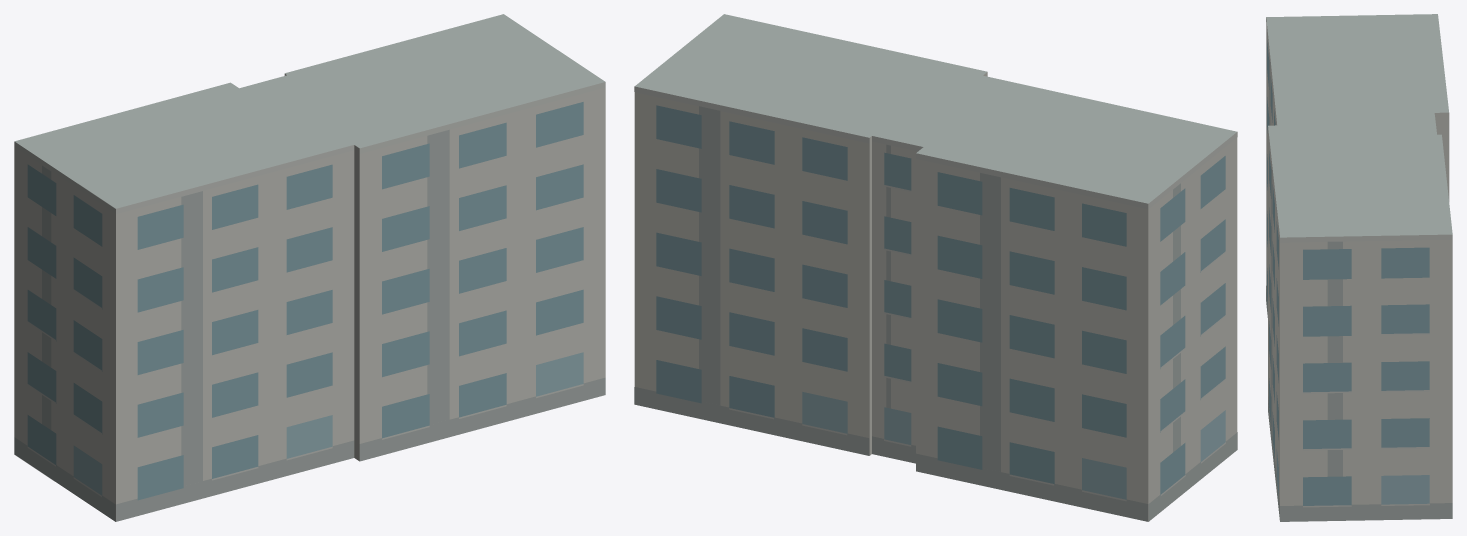
File: survey-upis-32702300.glb
3 views of the same model, side by side, from view 1: azimuth 30°, elevation 25°; view 2: azimuth 150°, elevation 25°; view 3: azimuth 270°, elevation 25° (orthographic). The views are drawn at different scales.
Visible parts, largest first — view 1: survey-upis-32702300.tmp; view 2: survey-upis-32702300.tmp; view 3: survey-upis-32702300.tmp.
Part boxes in pixels (x1,y1,x2,y2): survey-upis-32702300.tmp: [14, 14, 605, 521]; survey-upis-32702300.tmp: [634, 14, 1237, 521]; survey-upis-32702300.tmp: [1266, 14, 1452, 521].
Size of the model in its own units: 23.07 by 13.68 by 8.14.
